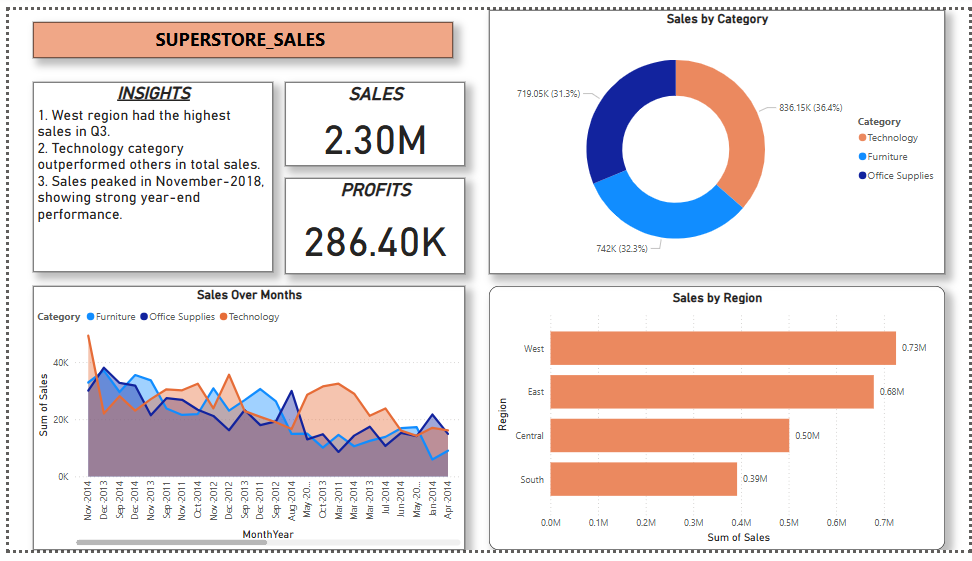

What the dashboard file says about the page in this screenshot:
{"tool":"powerbi","page":{"name":"Page 1","canvas":[1280,720],"ordinal":0},"visuals":[{"type":"lineChart","title":"Sales Over Months","fields":{"Category":["Superstore.MonthYear"],"Y":["Sum(Superstore.Sales)"],"Series":["Superstore.Category"]},"box":[32,368,576,352],"z":0},{"type":"clusteredBarChart","title":"Sales by Region","fields":{"Category":["Superstore.Region"],"Y":["Sum(Superstore.Sales)"]},"box":[640,368,608,352],"z":1},{"type":"donutChart","title":" Sales by Category","fields":{"Category":["Superstore.Category"],"Y":["Sum(Superstore.Sales)"]},"box":[640,0,608,352],"z":2},{"type":"card","title":"SALES","fields":{"Values":["Sum(Superstore.Sales)"]},"box":[368,96,240,112],"z":3},{"type":"card","title":"PROFITS","fields":{"Values":["Sum(Superstore.Profit)"]},"box":[368,224,240,128],"z":4},{"type":"textbox","box":[32,16,560,48],"z":5},{"type":"textbox","title":"INSIGHTS","box":[32,96,320,253],"z":6}]}

Visuals, with their boxes in screenshot pixels (x1, y1, x2, y2), scaled from the page's 1280x720 canvas onto the 972x561 screenshot:
"Sales Over Months" lineChart: (x1=24, y1=287, x2=462, y2=560)
"Sales by Region" clusteredBarChart: (x1=486, y1=287, x2=948, y2=560)
" Sales by Category" donutChart: (x1=486, y1=0, x2=948, y2=274)
"SALES" card: (x1=279, y1=75, x2=462, y2=162)
"PROFITS" card: (x1=279, y1=175, x2=462, y2=274)
textbox: (x1=24, y1=12, x2=450, y2=50)
"INSIGHTS" textbox: (x1=24, y1=75, x2=267, y2=272)
